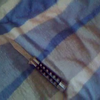knife: (6, 38, 67, 91)
